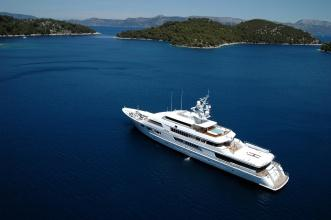yacht: (114, 92, 296, 189)
